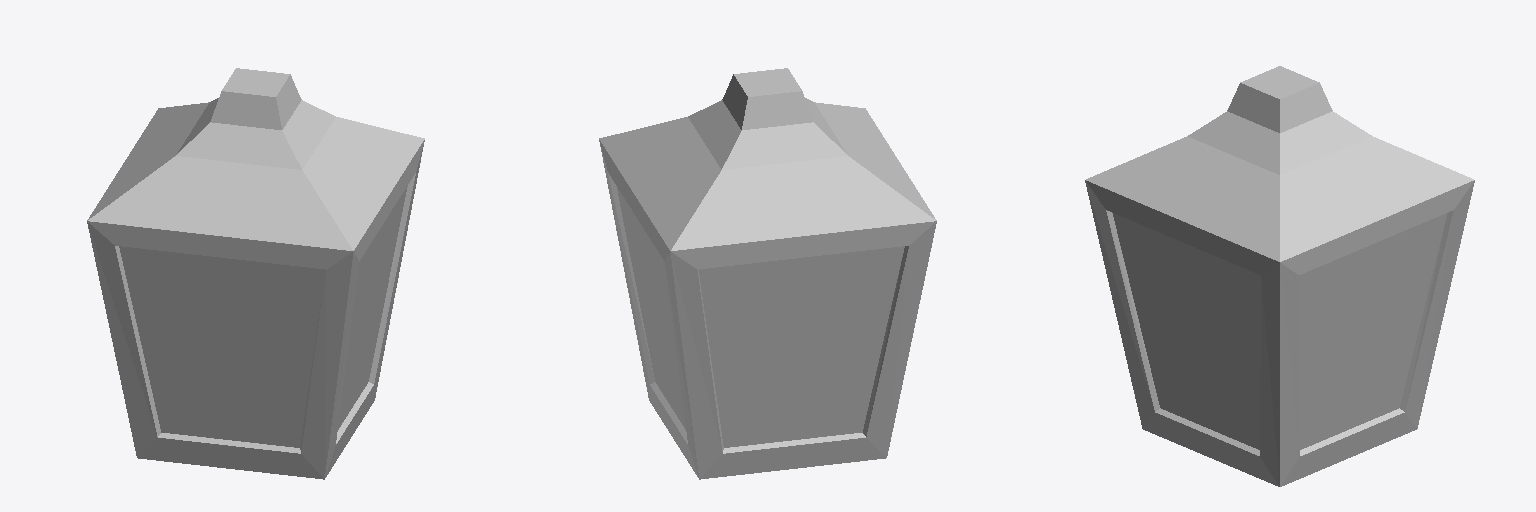
File: Cage.obj
3 views of the same model, side by side, from view 1: azimuth 30°, elevation 25°; view 2: azimuth 150°, elevation 25°; view 3: azimuth 270°, elevation 25° (orthographic).
Parts seen in each view (by area): view 1: Lamp_Basket_Cage; view 2: Lamp_Basket_Cage; view 3: Lamp_Basket_Cage.
Boxes of the visible parts, x1=… form: Lamp_Basket_Cage: x1=87, y1=68, x2=424, y2=479; Lamp_Basket_Cage: x1=599, y1=68, x2=936, y2=479; Lamp_Basket_Cage: x1=1085, y1=66, x2=1474, y2=486.
Bounding box in the file's own units: 98.97 × 96.95 × 98.97.